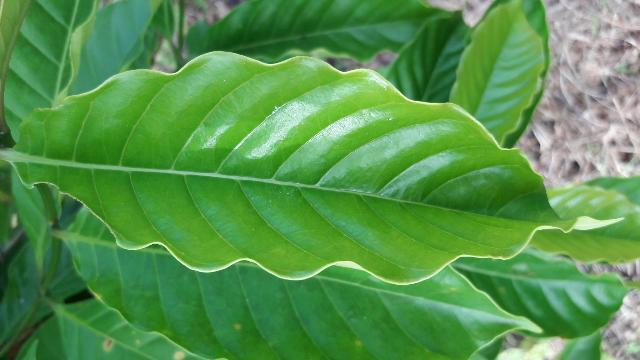healthy: (4, 54, 603, 284)
